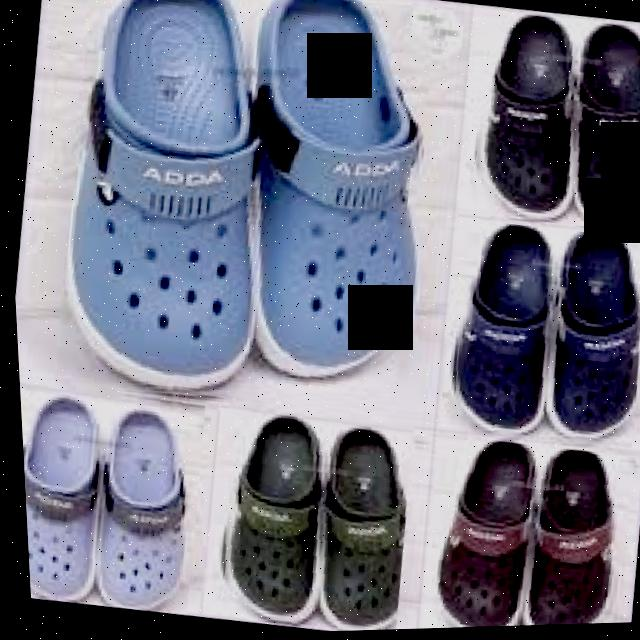shoe: (36, 0, 454, 433), (195, 397, 418, 636), (432, 218, 640, 463), (15, 372, 210, 620), (450, 7, 640, 243), (413, 435, 637, 631)
